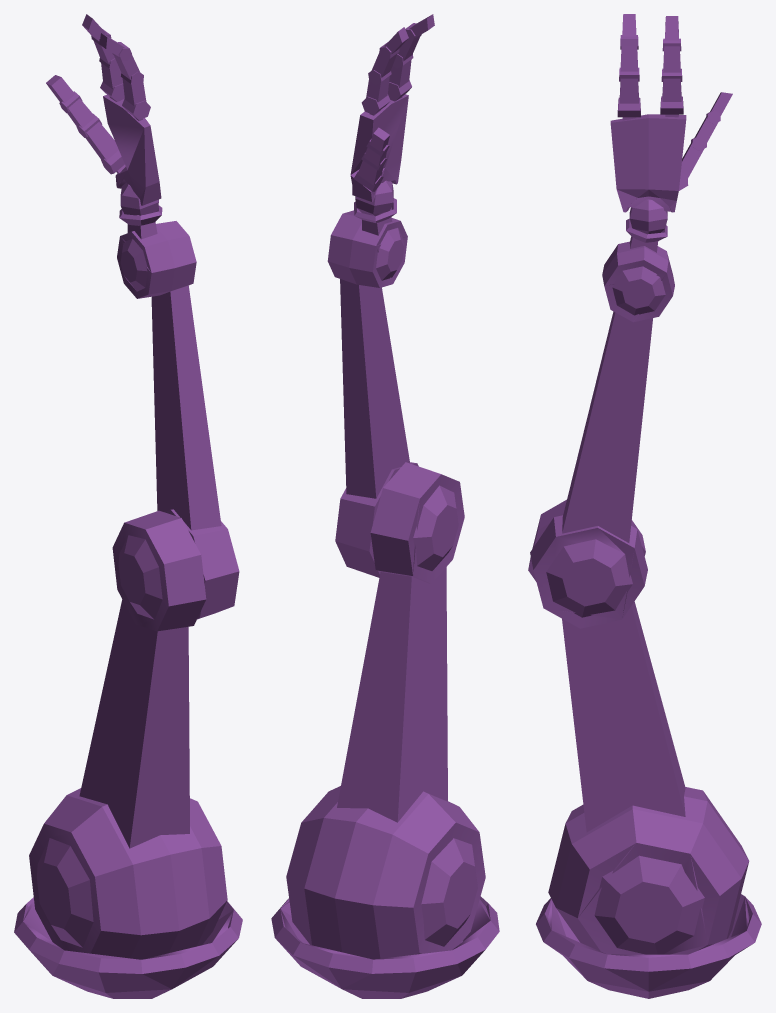
File: item_robot_arm_left_galaxy.glb
3 renders of one model, left to right at view 1: azimuth 30°, elevation 25°; view 2: azimuth 150°, elevation 25°; view 3: azimuth 270°, elevation 25°, orthographic.
Visible parts, largest first — view 1: Robot_Arm_Left; view 2: Robot_Arm_Left; view 3: Robot_Arm_Left.
Boxes of the visible parts, box(x1,y1,x2,y2) form: Robot_Arm_Left: box(14, 14, 242, 998); Robot_Arm_Left: box(271, 14, 499, 998); Robot_Arm_Left: box(528, 14, 761, 998).
Size of the model in its own units: 0.2217 by 1.04 by 0.2292.
